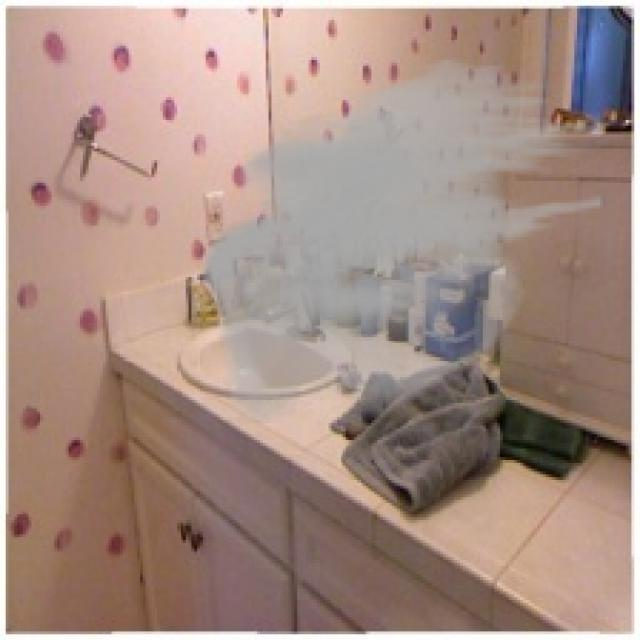smoke: (203, 54, 606, 423)
